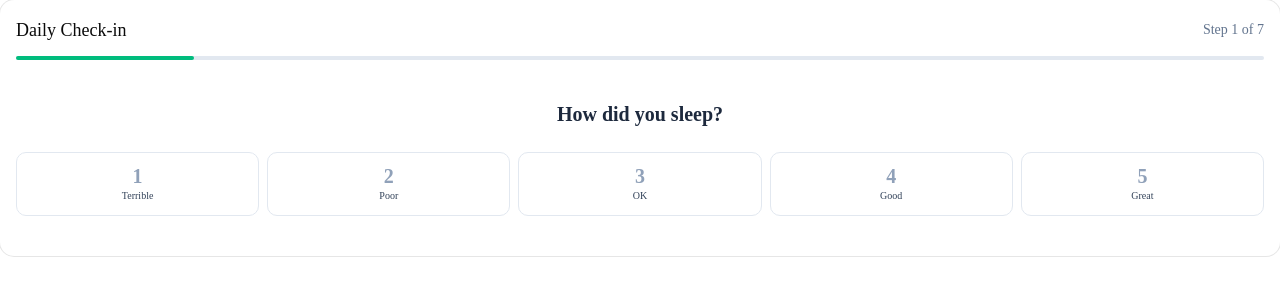
Test: ReadinessForm — navigation › advances to step 2 after selecting a rating on step 1
Click the button with aria-label " 4 —". click: [891, 184]
box: x1=770 y1=152 x2=1013 y2=216
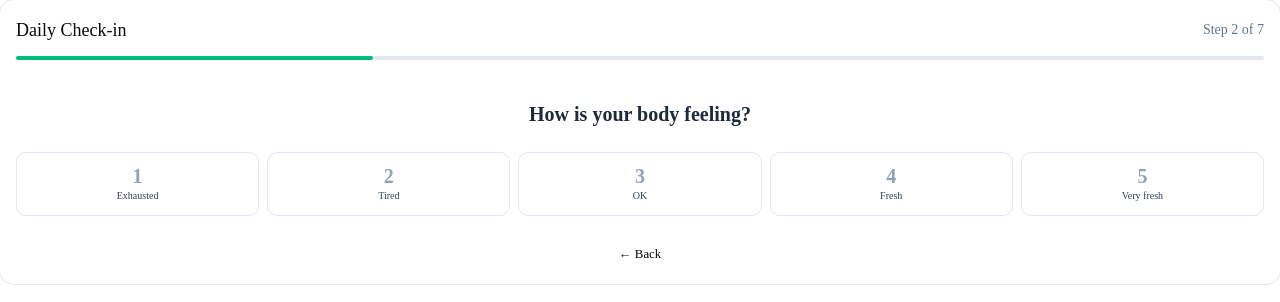
Result: the text "How is your body feeling?" is shown at x1=529 y1=103 x2=751 y2=125
